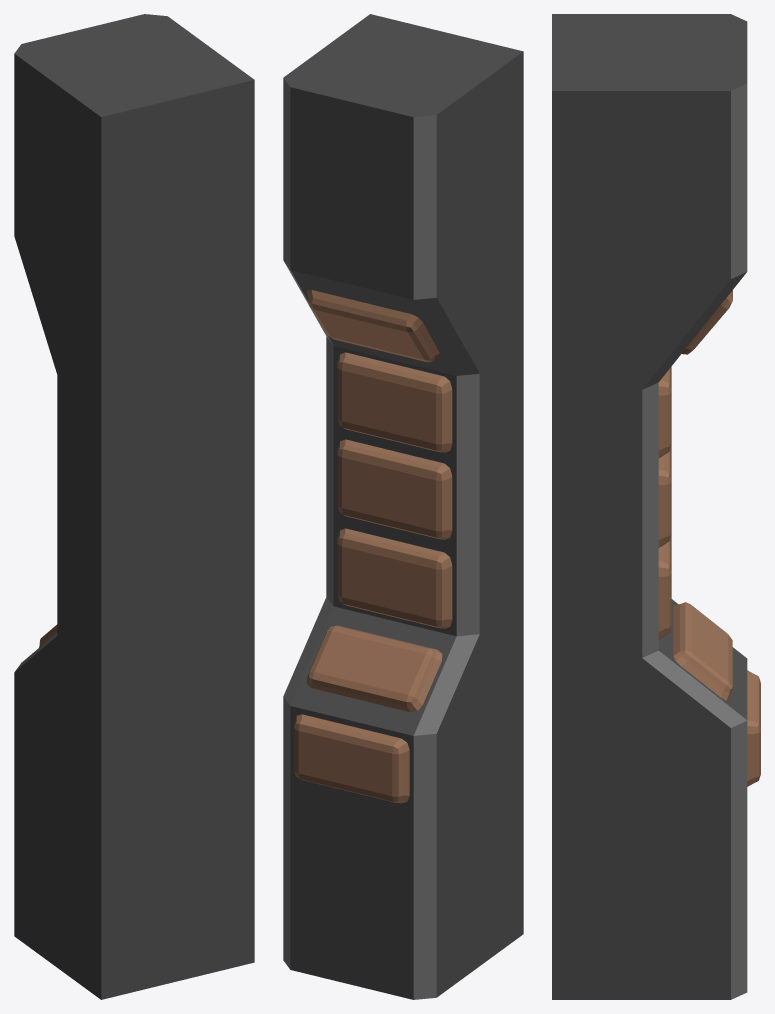
Rendered from SM_Bld_Wall_Pillar_07.fbx.
The picture shows the model from 3 angles, left to right: view 1: azimuth 30°, elevation 25°; view 2: azimuth 150°, elevation 25°; view 3: azimuth 270°, elevation 25°; orthographic projection. The views are drawn at different scales.
Visible parts, largest first — view 1: SM_Bld_Wall_Pillar_07_LOD0; view 2: SM_Bld_Wall_Pillar_07_LOD0; view 3: SM_Bld_Wall_Pillar_07_LOD0.
Boxes of the visible parts, bbox=[...] form: SM_Bld_Wall_Pillar_07_LOD0: bbox=[14, 14, 254, 999]; SM_Bld_Wall_Pillar_07_LOD0: bbox=[283, 14, 523, 999]; SM_Bld_Wall_Pillar_07_LOD0: bbox=[552, 14, 760, 999].
Size of the model in its own units: 106 by 92.55 by 509.
Materials: 1 (1 with a texture image).
